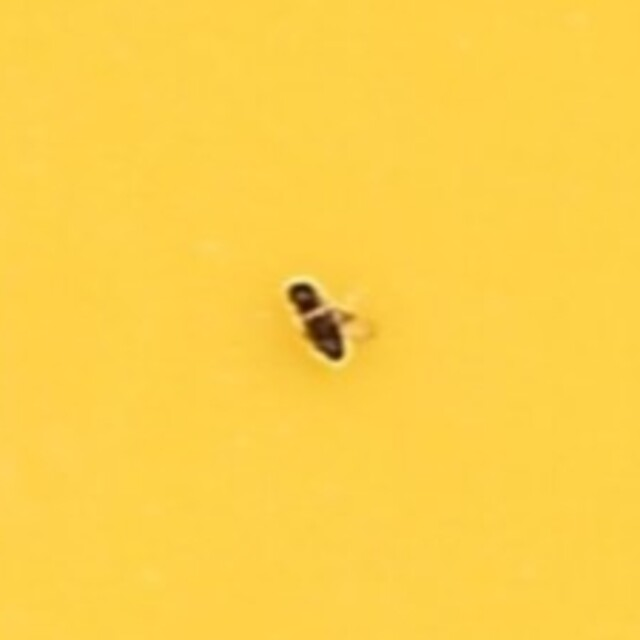Hemiptera: (284, 275, 356, 365)
